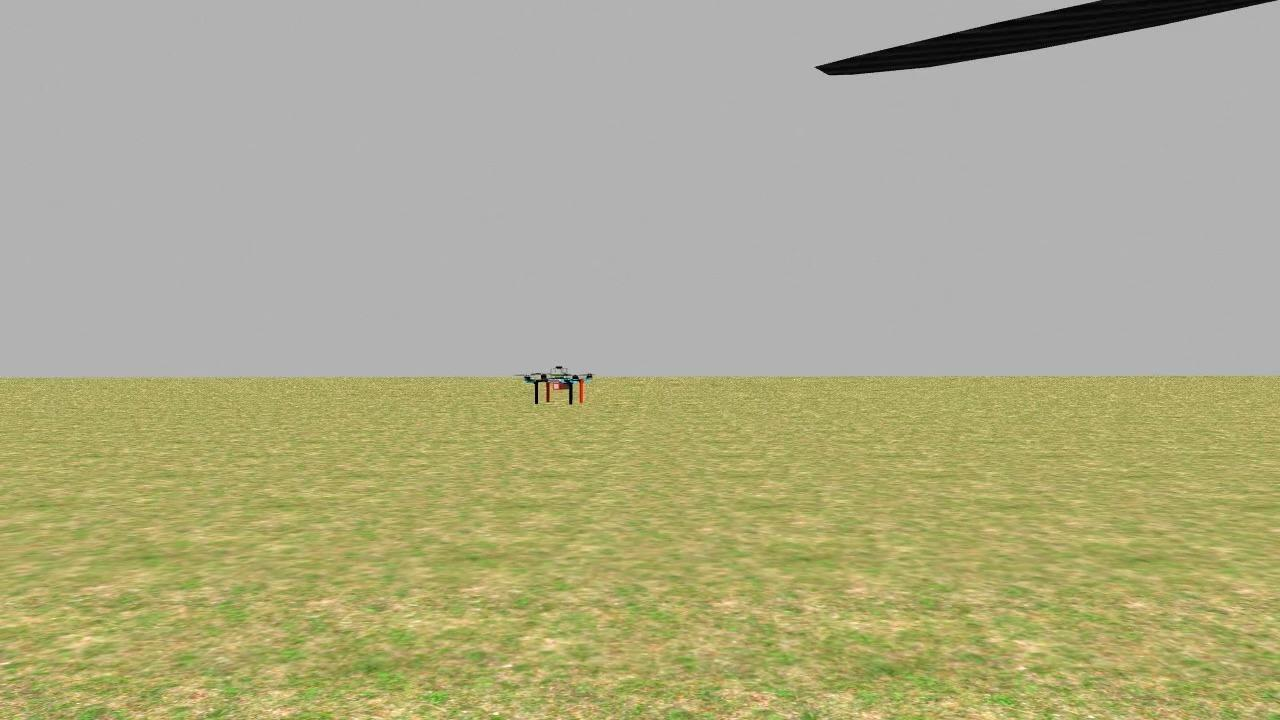UAV: (514, 341, 600, 410)
